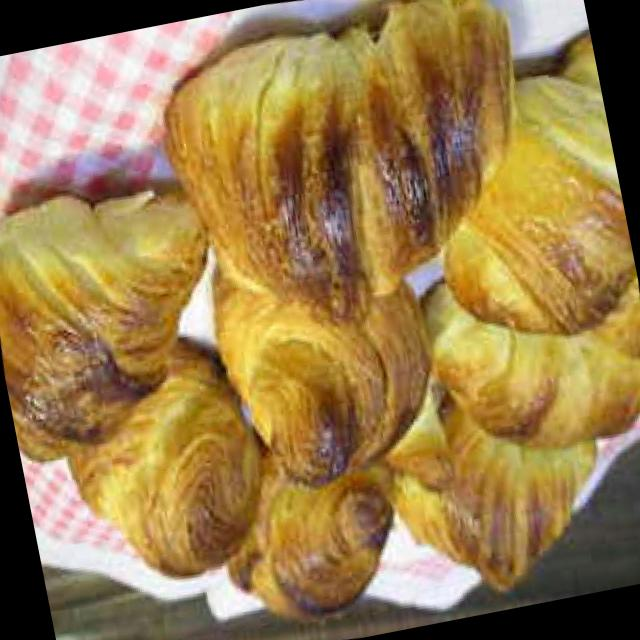Croissant: (143, 0, 551, 346)
